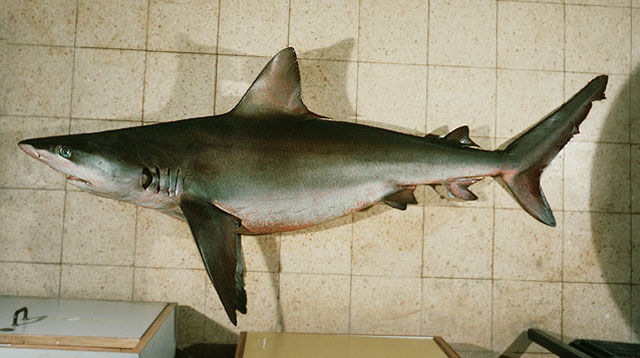fish: (19, 49, 609, 325)
